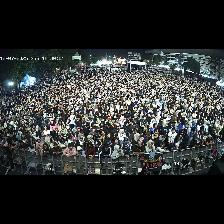person: (99, 144, 112, 169), (0, 139, 20, 153), (159, 122, 169, 141), (168, 129, 177, 150), (146, 140, 155, 160), (86, 142, 95, 161), (132, 141, 144, 155), (112, 145, 124, 159), (188, 127, 196, 146), (143, 132, 153, 147), (155, 140, 167, 152), (52, 142, 62, 156), (151, 123, 159, 140), (95, 135, 103, 152), (118, 129, 126, 145), (132, 134, 142, 146), (56, 131, 66, 143), (179, 118, 187, 133), (130, 120, 139, 133), (43, 143, 52, 156), (122, 143, 130, 157), (124, 137, 132, 151), (190, 135, 199, 147), (59, 138, 67, 151), (122, 122, 130, 135), (28, 141, 35, 155), (112, 138, 120, 150), (180, 136, 188, 148), (104, 133, 112, 145), (19, 141, 28, 151), (71, 137, 79, 148), (45, 133, 52, 145), (130, 129, 137, 141), (174, 136, 180, 149), (82, 139, 89, 150), (36, 137, 43, 148), (78, 133, 84, 145), (77, 146, 85, 155), (60, 125, 67, 135), (175, 119, 180, 133), (99, 130, 105, 141), (120, 116, 126, 127), (172, 112, 177, 125), (204, 137, 212, 145), (187, 124, 192, 136), (212, 136, 219, 144), (36, 148, 43, 156), (67, 134, 73, 143), (21, 134, 27, 143), (88, 135, 94, 144), (44, 126, 50, 134), (140, 168, 148, 174), (50, 138, 54, 148), (41, 133, 45, 142)
